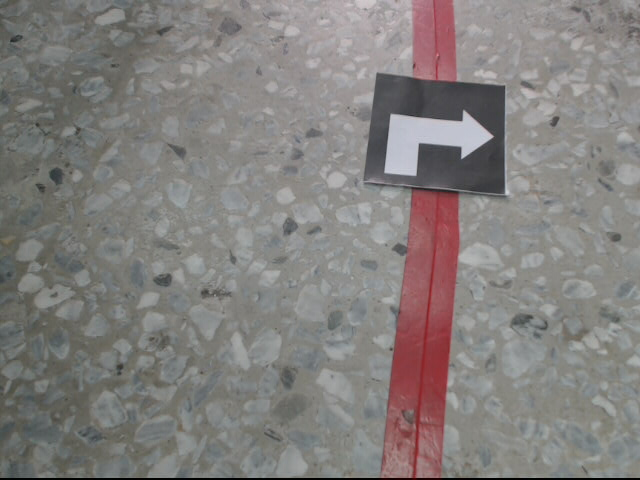right: (362, 70, 511, 197)
